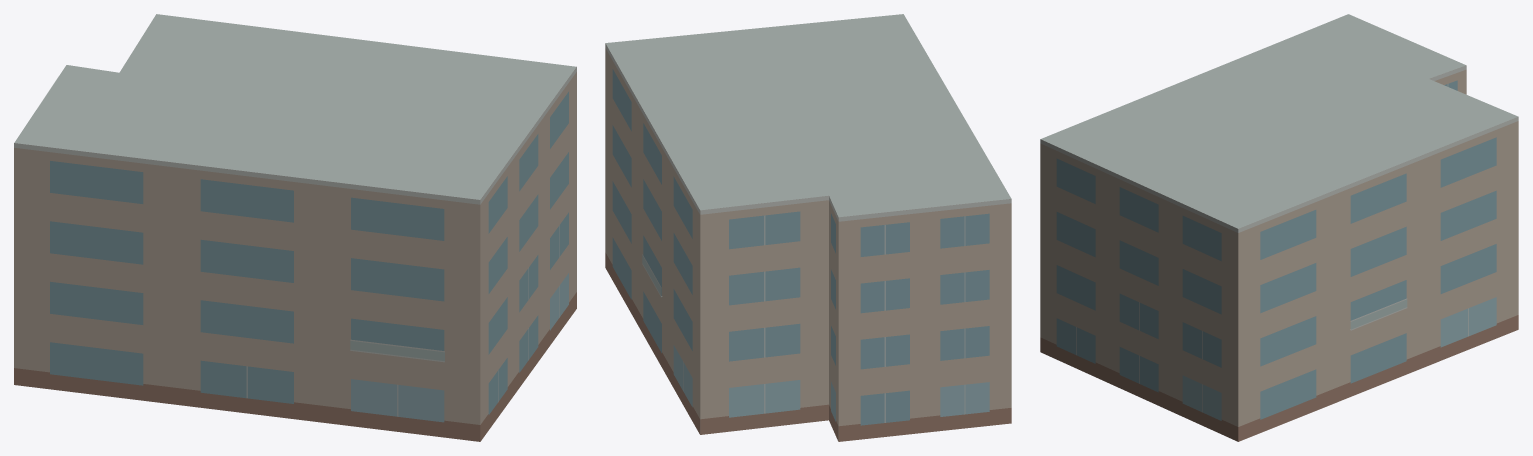
File: survey-upis-32904775.glb
The picture shows the model from 3 angles, left to right: view 1: azimuth 30°, elevation 25°; view 2: azimuth 150°, elevation 25°; view 3: azimuth 270°, elevation 25°; orthographic projection. The views are drawn at different scales.
Parts seen in each view (by area): view 1: survey-upis-32904775.tmp; view 2: survey-upis-32904775.tmp; view 3: survey-upis-32904775.tmp.
Part boxes in pixels (bbox=[...]): survey-upis-32904775.tmp: bbox=[14, 14, 576, 441]; survey-upis-32904775.tmp: bbox=[605, 14, 1011, 441]; survey-upis-32904775.tmp: bbox=[1040, 14, 1518, 441].
Bounding box in the file's own units: 26.73 × 12.35 × 25.14.
